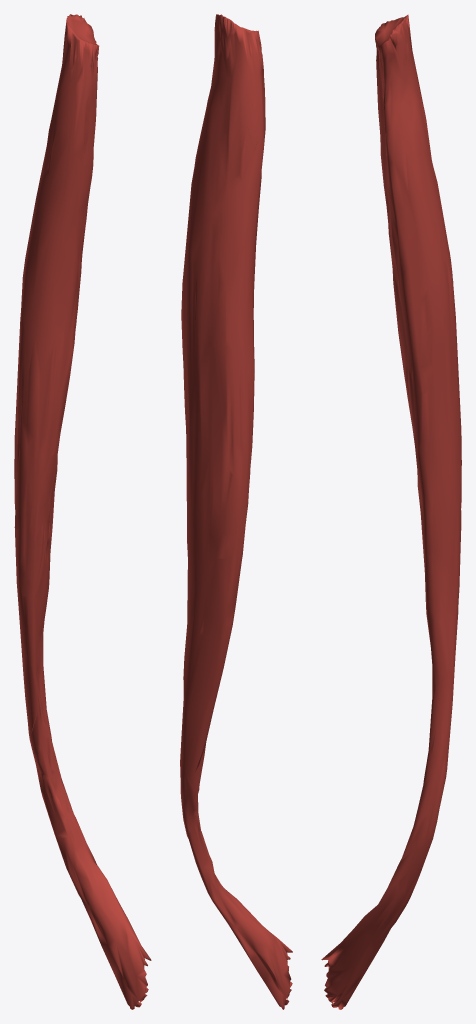
File: musculos-semitendinosus-muscle-r.glb
3 renders of one model, left to right at view 1: azimuth 90°, elevation 25°; view 2: azimuth 150°, elevation 25°; view 3: azimuth 270°, elevation 25°, orthographic. The views are drawn at different scales.
Visible parts, largest first — view 1: Semitendinosus muscle.r; view 2: Semitendinosus muscle.r; view 3: Semitendinosus muscle.r.
Boxes of the visible parts, box(x1,y1,x2,y2) form: Semitendinosus muscle.r: box(14, 14, 151, 1009); Semitendinosus muscle.r: box(180, 14, 292, 1009); Semitendinosus muscle.r: box(321, 14, 461, 1009).
Bounding box in the file's own units: 0.036 × 0.4597 × 0.0582.
